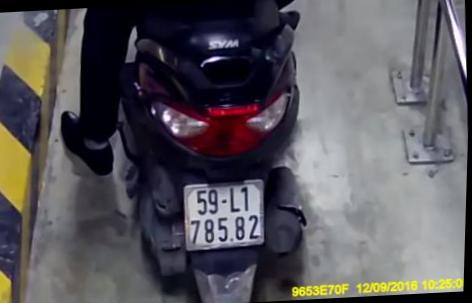LP: (180, 178, 272, 251)
